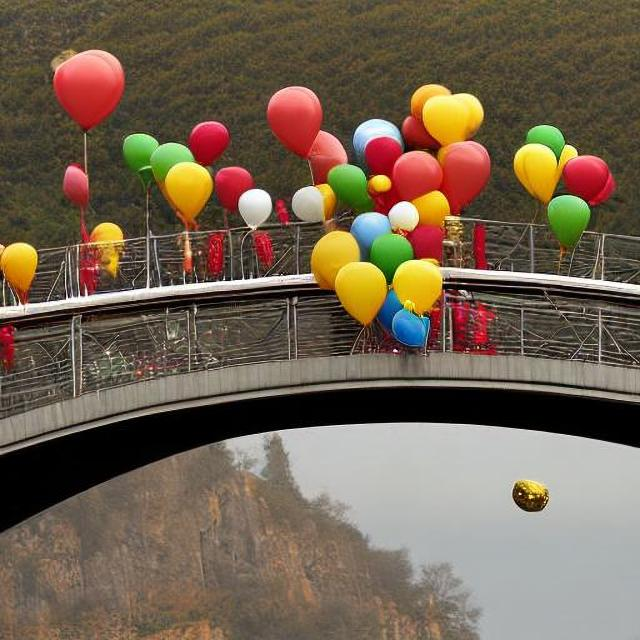balloon: (95, 76, 582, 372), (503, 124, 620, 268), (44, 47, 127, 134), (0, 237, 39, 303), (507, 476, 551, 516)
floating object: (508, 476, 552, 512)
